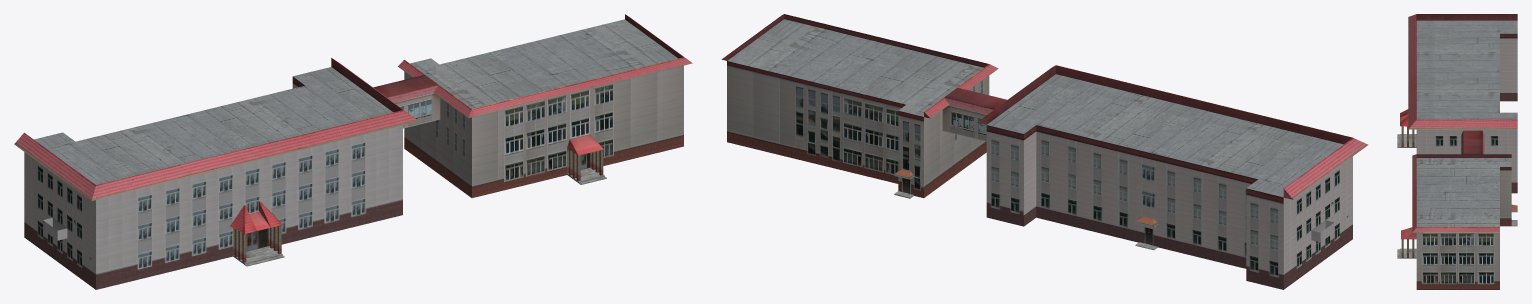
3 views of the same model, side by side, from view 1: azimuth 30°, elevation 25°; view 2: azimuth 150°, elevation 25°; view 3: azimuth 270°, elevation 25° (orthographic). The views are drawn at different scales.
Visible parts, largest first — view 1: build1, build_2, door6, balcon2, door2; view 2: build1, build_2, balcon2; view 3: build1, build_2, balcon2, door6, door2, door3.
Part boxes in pixels (bbox=[...]): build1: bbox=[14, 58, 418, 289]; build_2: bbox=[398, 14, 692, 197]; door6: bbox=[230, 202, 284, 266]; balcon2: bbox=[373, 75, 440, 128]; door2: bbox=[567, 134, 606, 184]; build1: bbox=[977, 65, 1368, 289]; build_2: bbox=[721, 14, 998, 197]; balcon2: bbox=[942, 87, 1006, 141]; build1: bbox=[1408, 14, 1517, 193]; build_2: bbox=[1412, 154, 1511, 289]; balcon2: bbox=[1461, 130, 1484, 154]; door6: bbox=[1397, 109, 1416, 147]; door2: bbox=[1397, 227, 1416, 258]; door3: bbox=[1511, 204, 1517, 226].
Bounding box in the file's own units: 82.62 × 13.71 × 20.27.
Materials: 4 (4 with a texture image).
